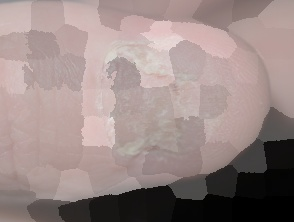Nail_psoriasis: (64, 14, 264, 209)
